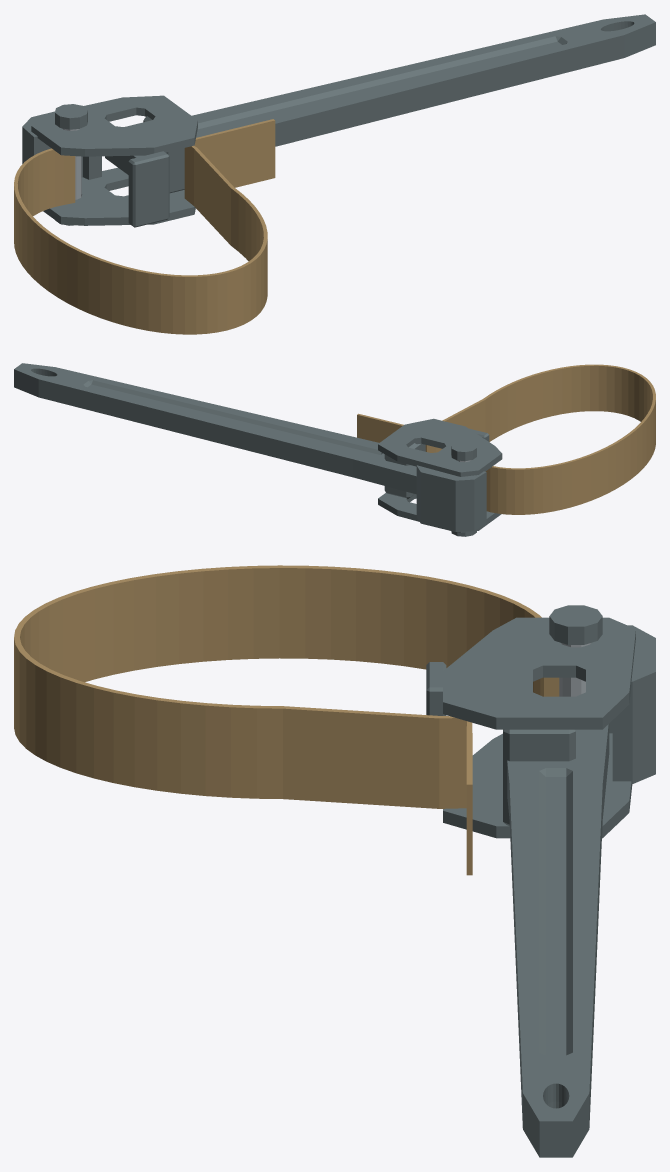
The model's file is A-NEW-20261026-STRAP-WRENCH-001_LOD2_R4.glb.
3 views of the same model, one above another, from view 1: azimuth 30°, elevation 25°; view 2: azimuth 150°, elevation 25°; view 3: azimuth 270°, elevation 25° (orthographic). The views are drawn at different scales.
Parts seen in each view (by area): view 1: continuous flat fabric loop and tail, tapered cast handle, head side cheek.001, head side cheek, lower strap guide spacer, short curved head nose, pin retaining head.001, head handle spacer; view 2: continuous flat fabric loop and tail, tapered cast handle, head side cheek.001, short curved head nose, head side cheek, pin retaining head.001, head handle spacer; view 3: continuous flat fabric loop and tail, tapered cast handle, head side cheek.001, short curved head nose, head side cheek, head handle spacer, pin retaining head.001, lower strap guide spacer.
Boxes of the visible parts, box(x1,y1,x2,y2) form: continuous flat fabric loop and tail: box(14, 119, 275, 334); tapered cast handle: box(105, 14, 655, 174); head side cheek.001: box(31, 95, 197, 156); head side cheek: box(43, 167, 195, 225); lower strap guide spacer: box(128, 151, 169, 227); short curved head nose: box(22, 111, 101, 179); pin retaining head.001: box(55, 104, 87, 129); head handle spacer: box(143, 116, 184, 193); continuous flat fabric loop and tail: box(357, 364, 655, 514); tapered cast handle: box(14, 363, 416, 494); head side cheek.001: box(378, 418, 502, 476); short curved head nose: box(416, 465, 486, 531); head side cheek: box(378, 493, 501, 532); pin retaining head.001: box(451, 441, 476, 461); head handle spacer: box(384, 443, 425, 498); continuous flat fabric loop and tail: box(14, 565, 559, 875); tapered cast handle: box(507, 724, 609, 1157); head side cheek.001: box(443, 617, 635, 729); short curved head nose: box(609, 625, 655, 784); head side cheek: box(443, 733, 632, 838); head handle spacer: box(503, 729, 575, 825); pin retaining head.001: box(549, 605, 602, 644); lower strap guide spacer: box(426, 662, 446, 715).
Size of the model in its own units: 0.3759 by 0.056 by 0.1929.
